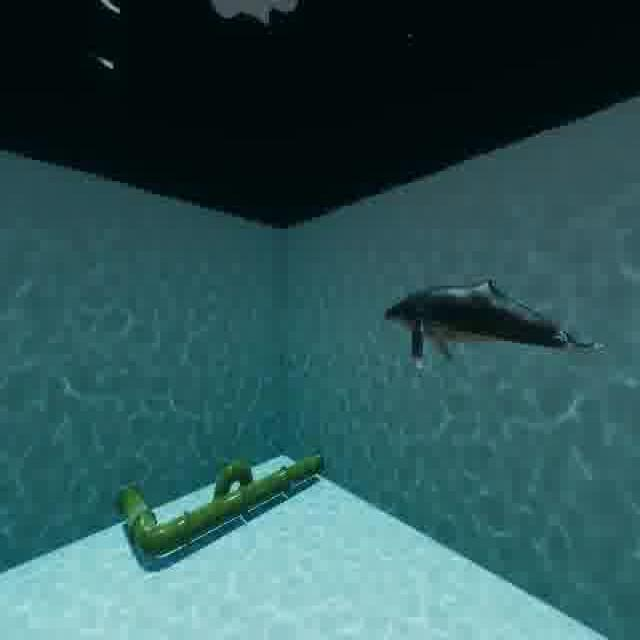Pipe: (106, 431, 365, 578)
Whale: (376, 257, 615, 406)
